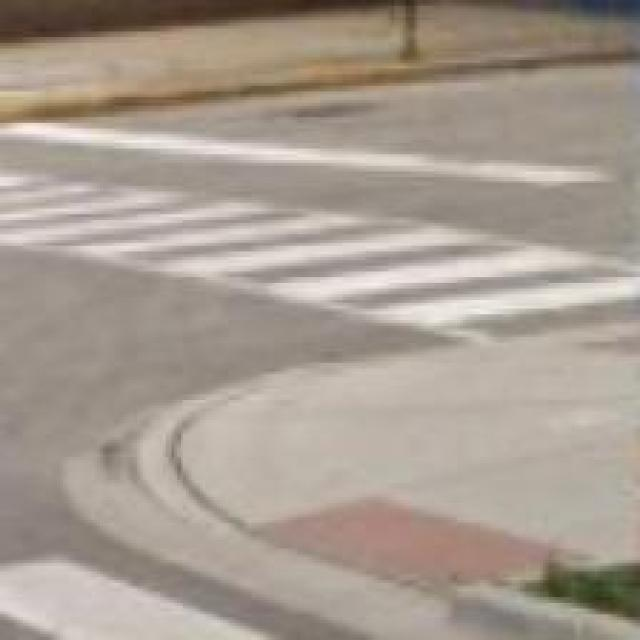walk-crossing: (2, 178, 629, 348)
